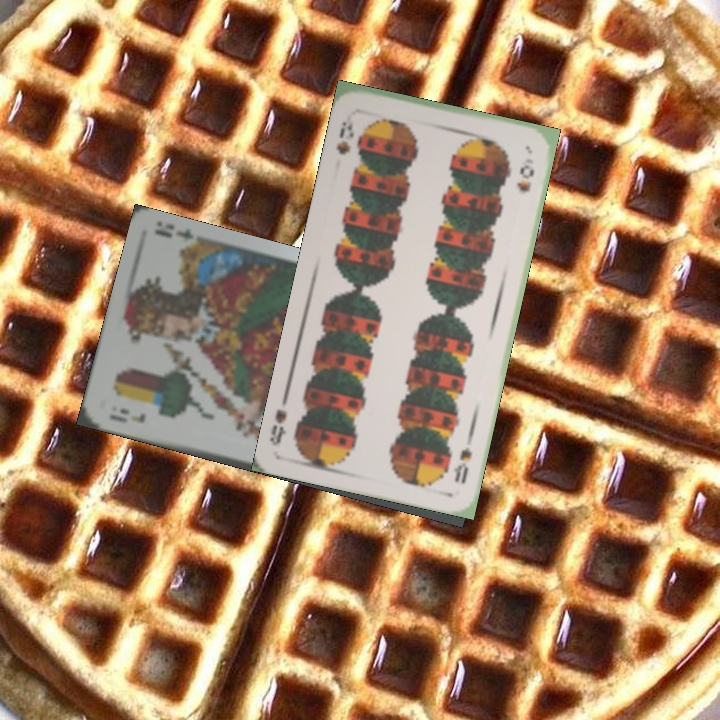EK: (105, 404, 148, 426)
S8: (449, 431, 475, 487), (332, 111, 357, 157)
